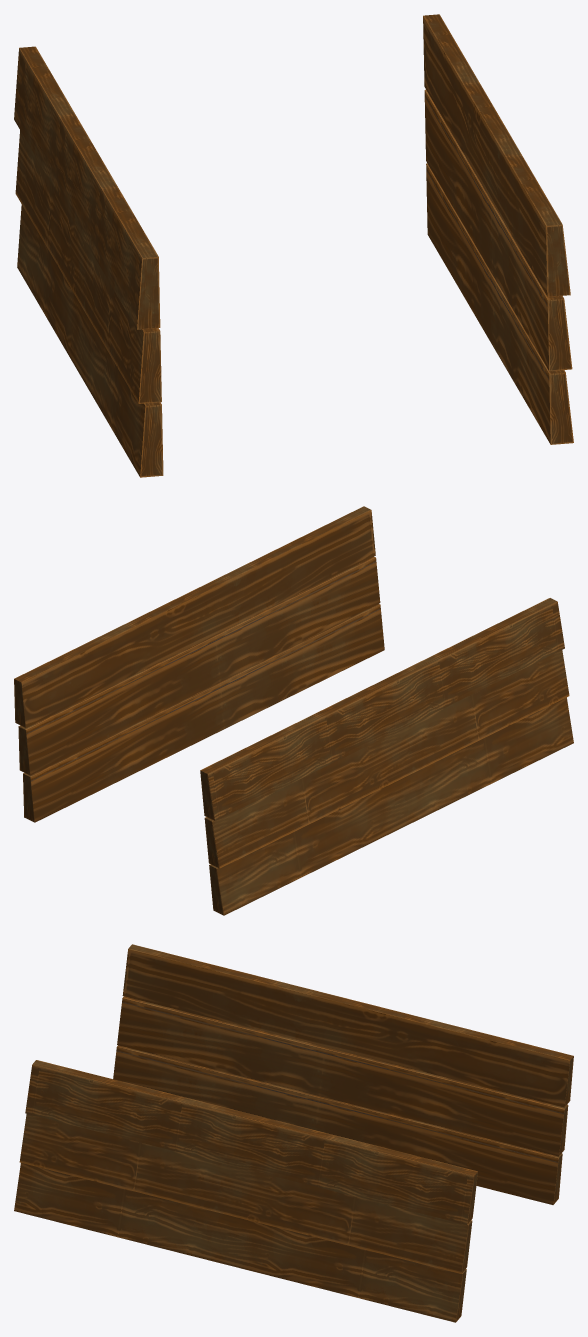
The picture shows the model from 3 angles, top to bottom: view 1: azimuth 30°, elevation 25°; view 2: azimuth 150°, elevation 25°; view 3: azimuth 270°, elevation 25°; orthographic projection. The views are drawn at different scales.
Parts seen in each view (by area): view 1: Cube.1955; view 2: Cube.1955; view 3: Cube.1955.
Part boxes in pixels (box(x1,y1,x2,y2)): Cube.1955: box(14, 14, 573, 477); Cube.1955: box(14, 506, 573, 915); Cube.1955: box(14, 944, 573, 1322).
Bounding box in the file's own units: 494 × 233 × 611.
1 material, 1 textured.
